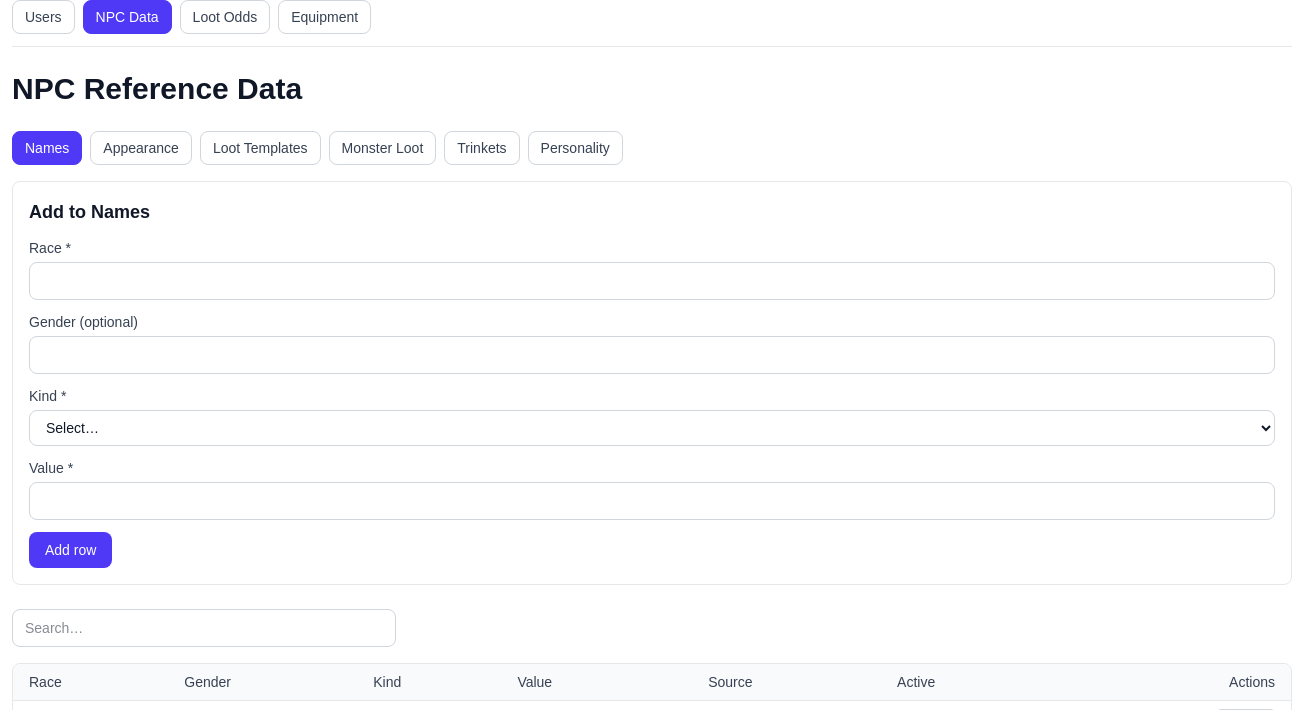
Test case: AdminNpcDataPage › returning to a visited tab shows its rows without a loading row
Click the tab "Personality" at [575, 148], box x1=528 y1=131 x2=623 y2=165
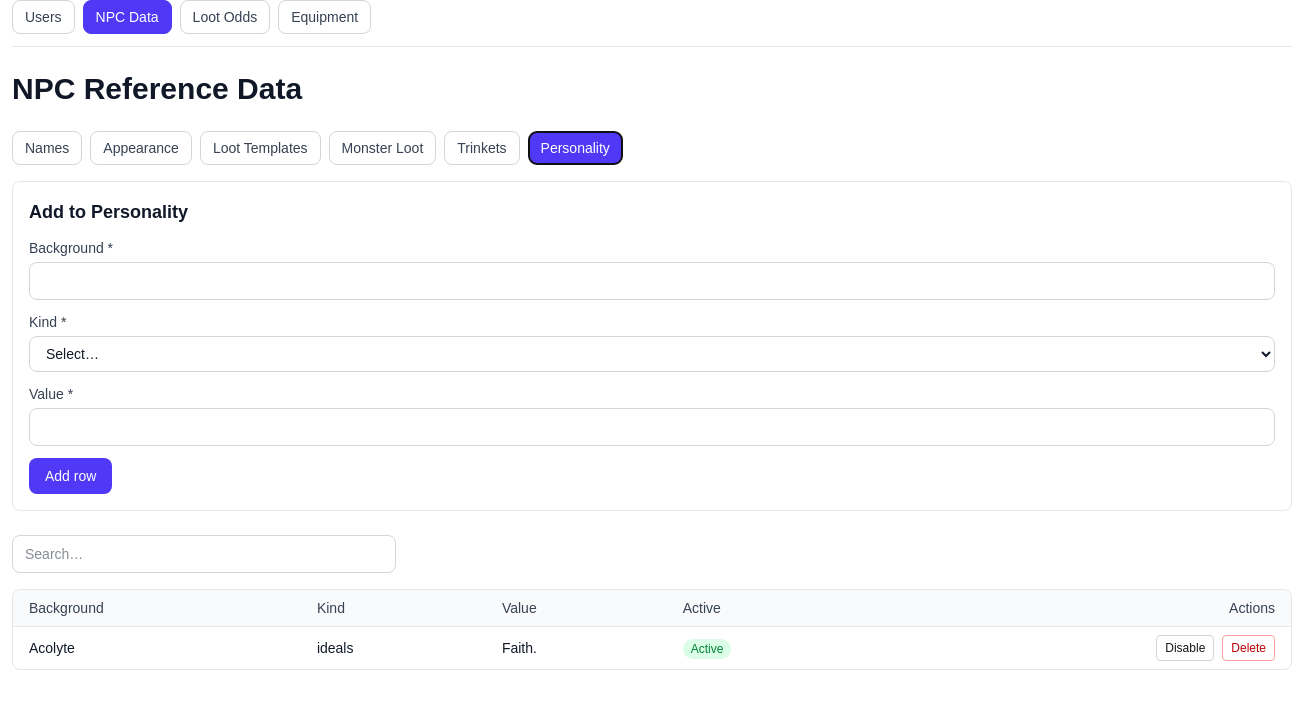
Expected: the text "Faith." is shown, x1=486 y1=626 x2=667 y2=669
Click the tab "Names" at [47, 148], box x1=12 y1=131 x2=82 y2=165
(page scrolled)
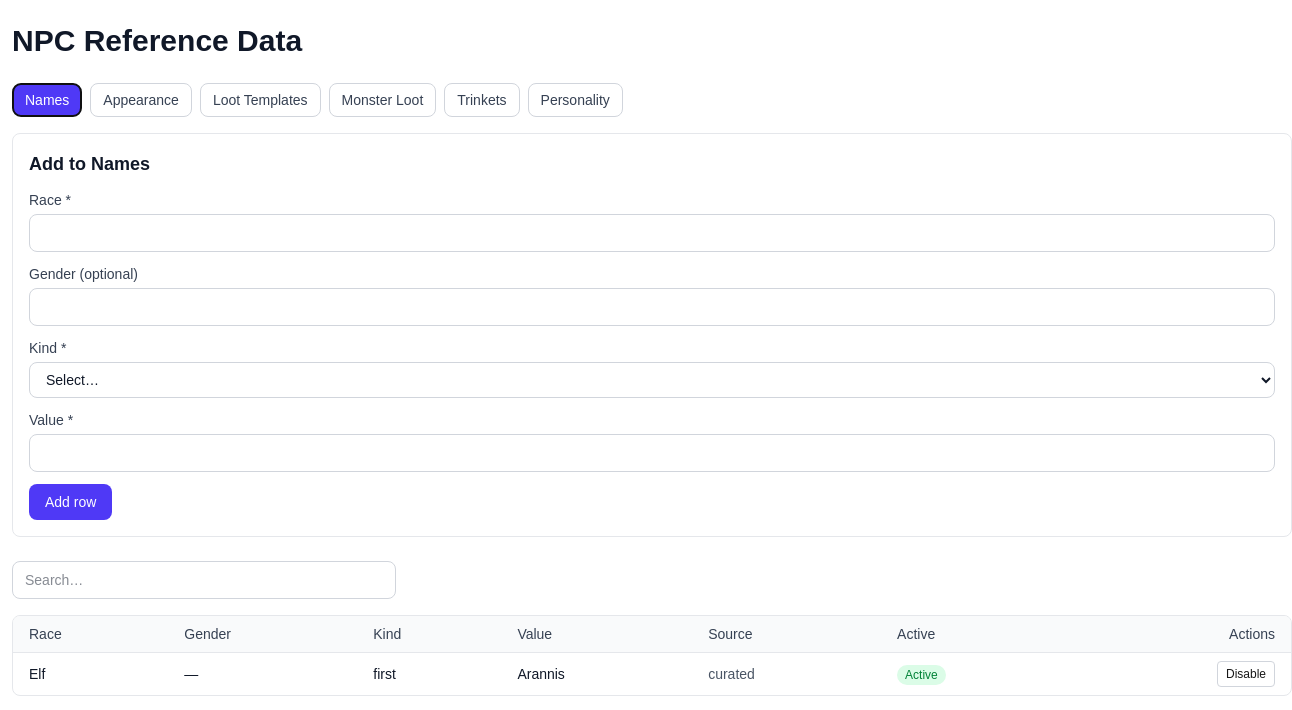
Expected: the text "Arannis" is shown, x1=501 y1=652 x2=692 y2=695
